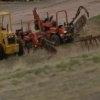Tractor: (6, 6, 78, 60)
